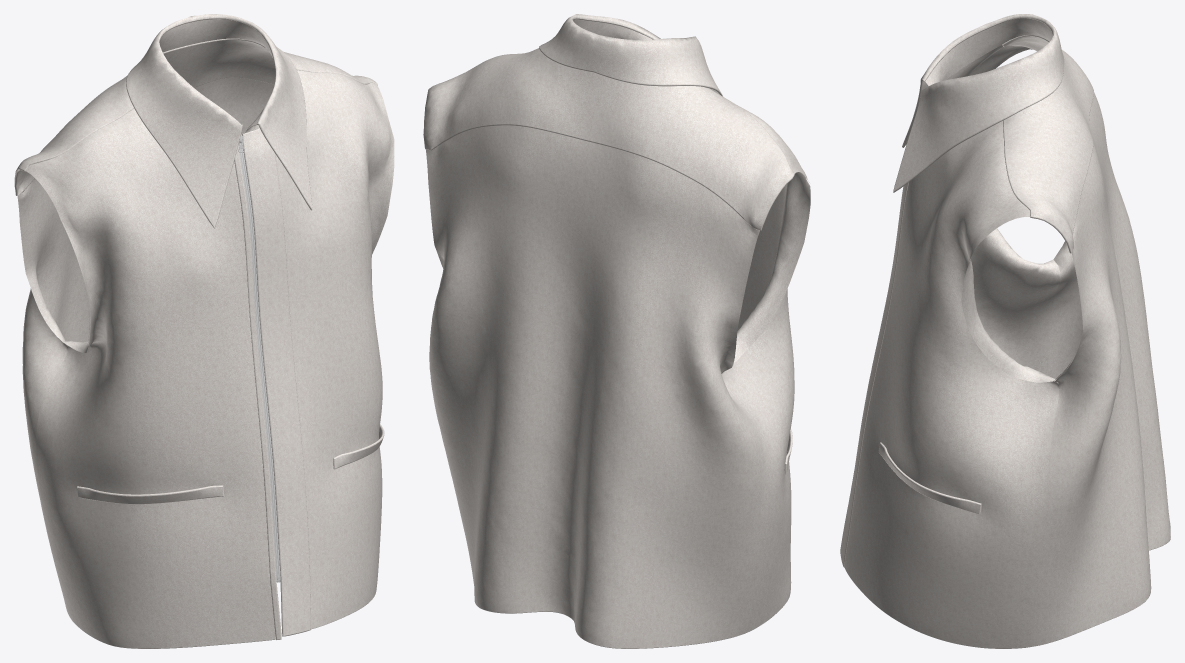
The model's file is Look 5_1.gltf.
3 views of the same model, side by side, from view 1: azimuth 30°, elevation 25°; view 2: azimuth 150°, elevation 25°; view 3: azimuth 270°, elevation 25° (orthographic). The views are drawn at different scales.
Parts seen in each view (by area): view 1: Cloth, Pattern_31039480, ZipperPattern_1335256, Graphic_1335365, ZipperPattern_1335207, Pattern_31039481, Graphic_1335412; view 2: Cloth; view 3: Cloth, Pattern_31039481.
Part boxes in pixels (left/top/right/bottom): Cloth: left=14, top=14, right=394, bottom=648; Pattern_31039480: left=77, top=485, right=223, bottom=504; ZipperPattern_1335256: left=241, top=134, right=280, bottom=579; Graphic_1335365: left=239, top=143, right=278, bottom=577; ZipperPattern_1335207: left=238, top=144, right=277, bottom=581; Pattern_31039481: left=333, top=424, right=384, bottom=469; Graphic_1335412: left=240, top=143, right=279, bottom=577; Cloth: left=423, top=14, right=810, bottom=648; Cloth: left=840, top=14, right=1170, bottom=648; Pattern_31039481: left=878, top=442, right=981, bottom=514.
Size of the model in its own units: 0.5376 by 0.8096 by 0.4397.
Materials: 17 (17 with a texture image).
